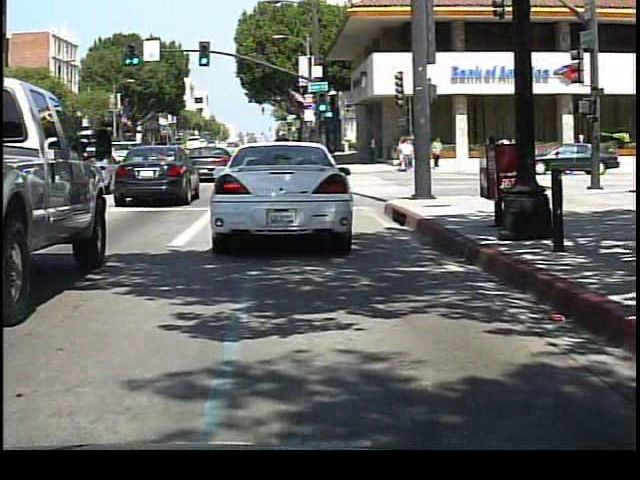person: (493, 134, 514, 174), (399, 136, 415, 177), (431, 135, 446, 171)
